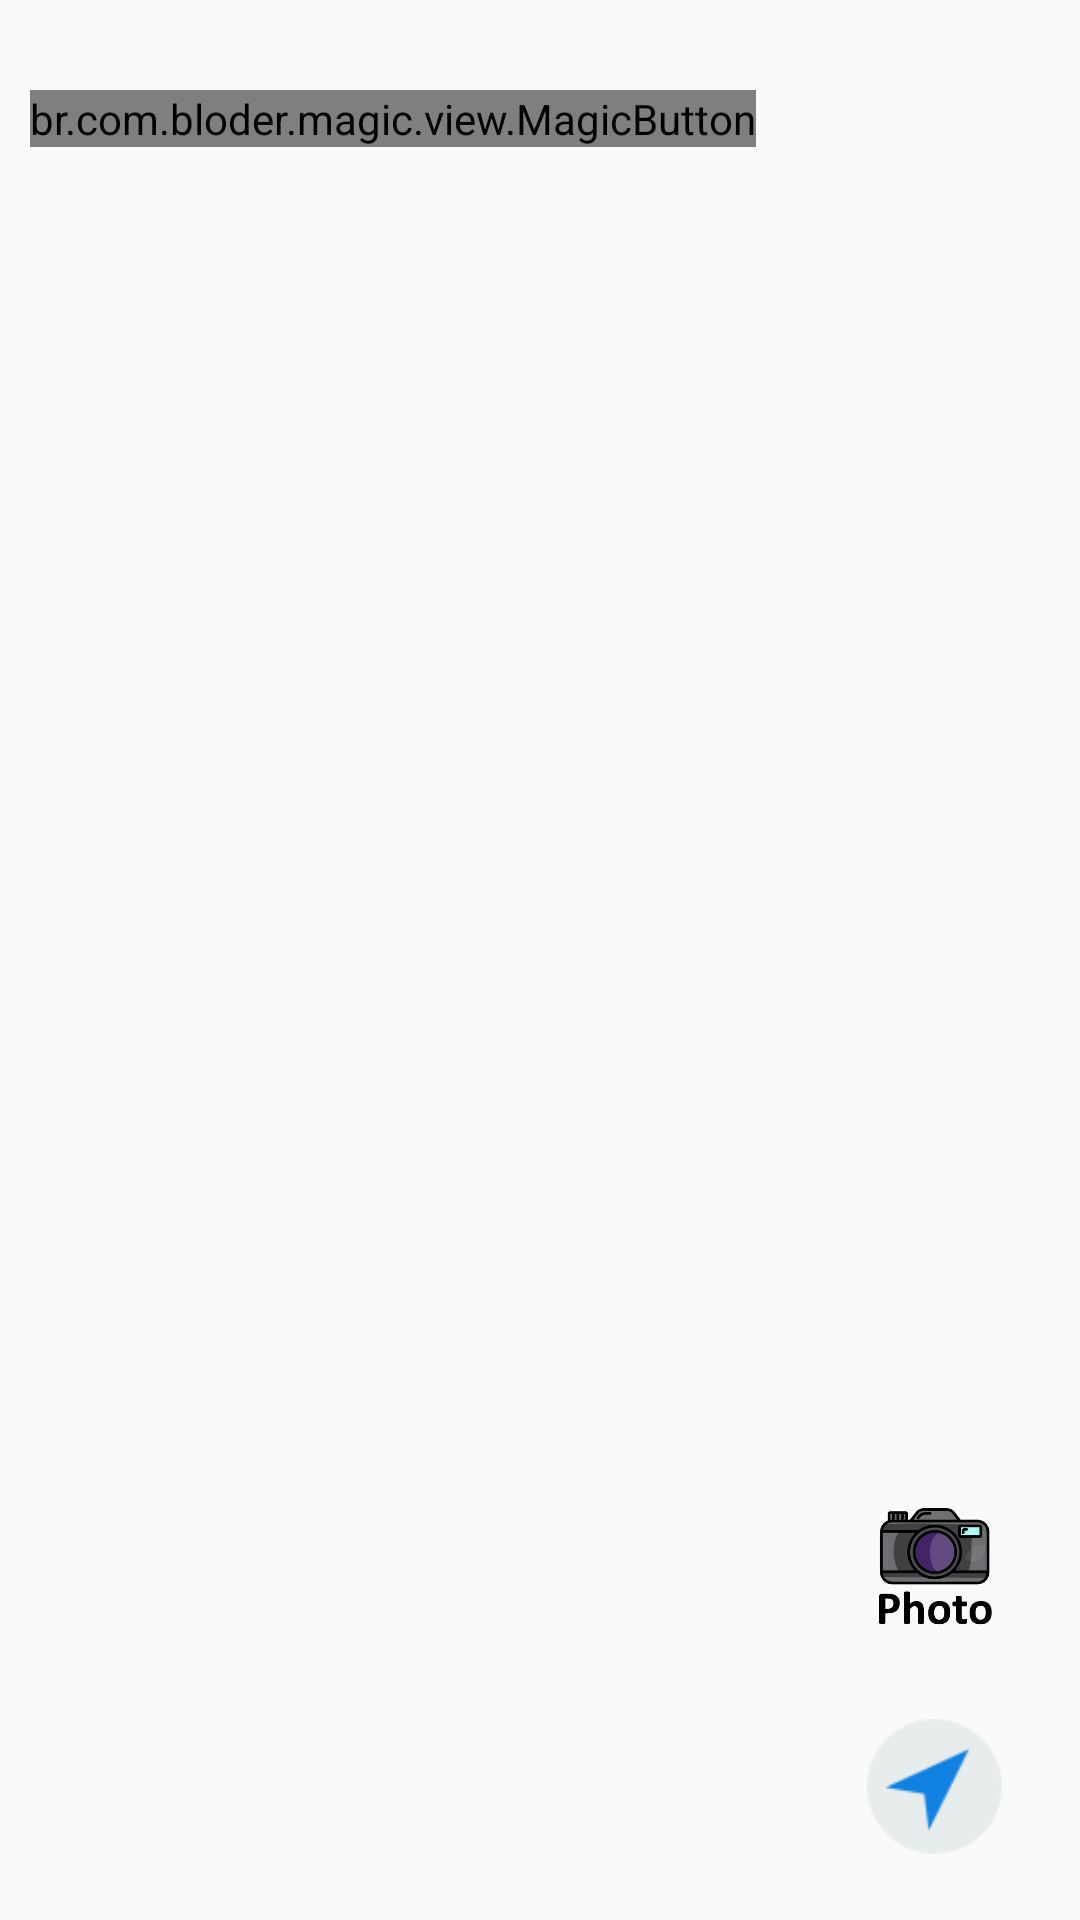

Named icons in this screenshot (1080px x 1920px) and their bounding boxes, bbox=[x1, y1, x2, y2]:
camera: bbox=[879, 1508, 992, 1625]
location: bbox=[867, 1719, 1002, 1854]
